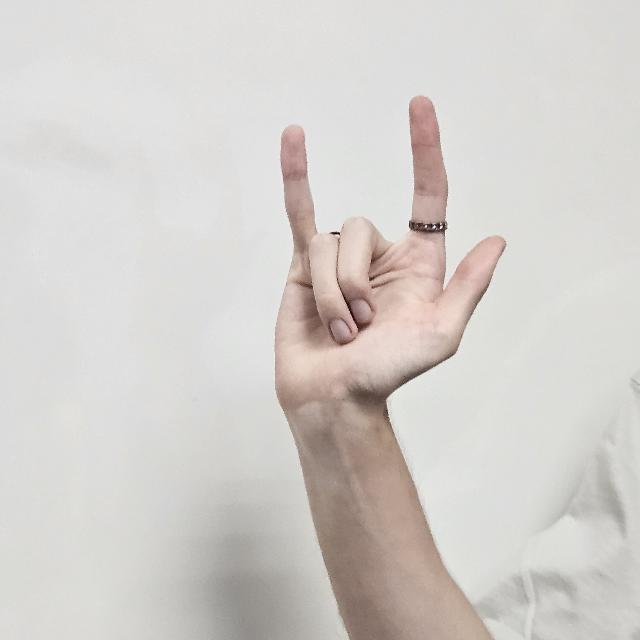Cima: (275, 96, 509, 400)
